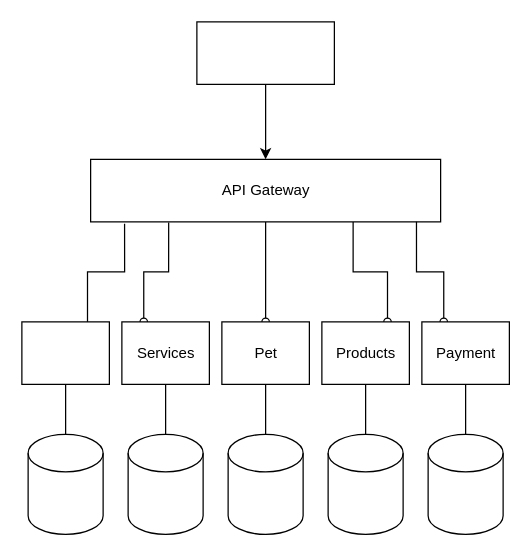
This 531x556 diagram has some shape labels left out. Here are the shapes that lost their labels. From the top down, the box of each, then its label:
(196, 21, 334, 84): Cliente
(21, 321, 109, 384): Auth
